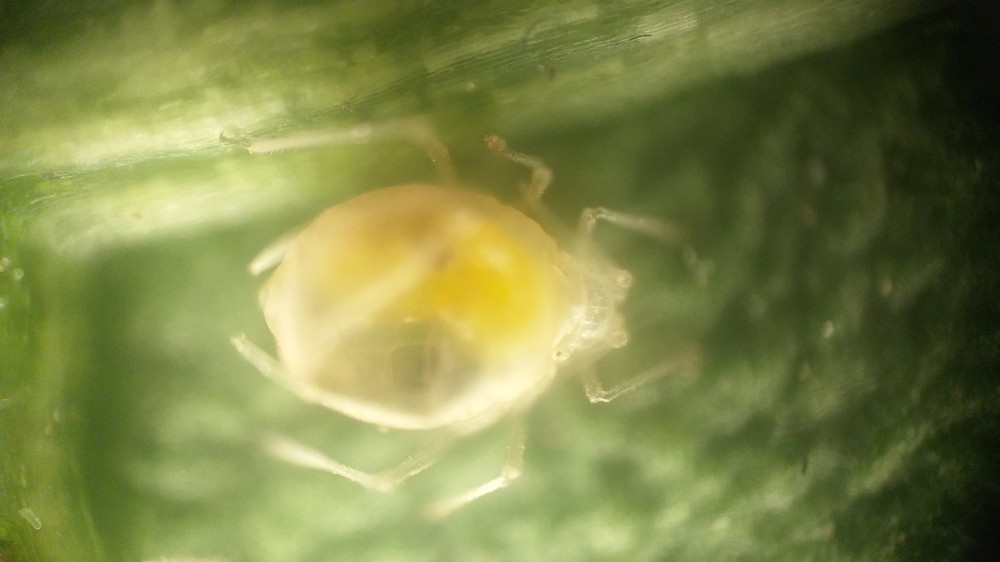Pulgon: (197, 100, 728, 521)
